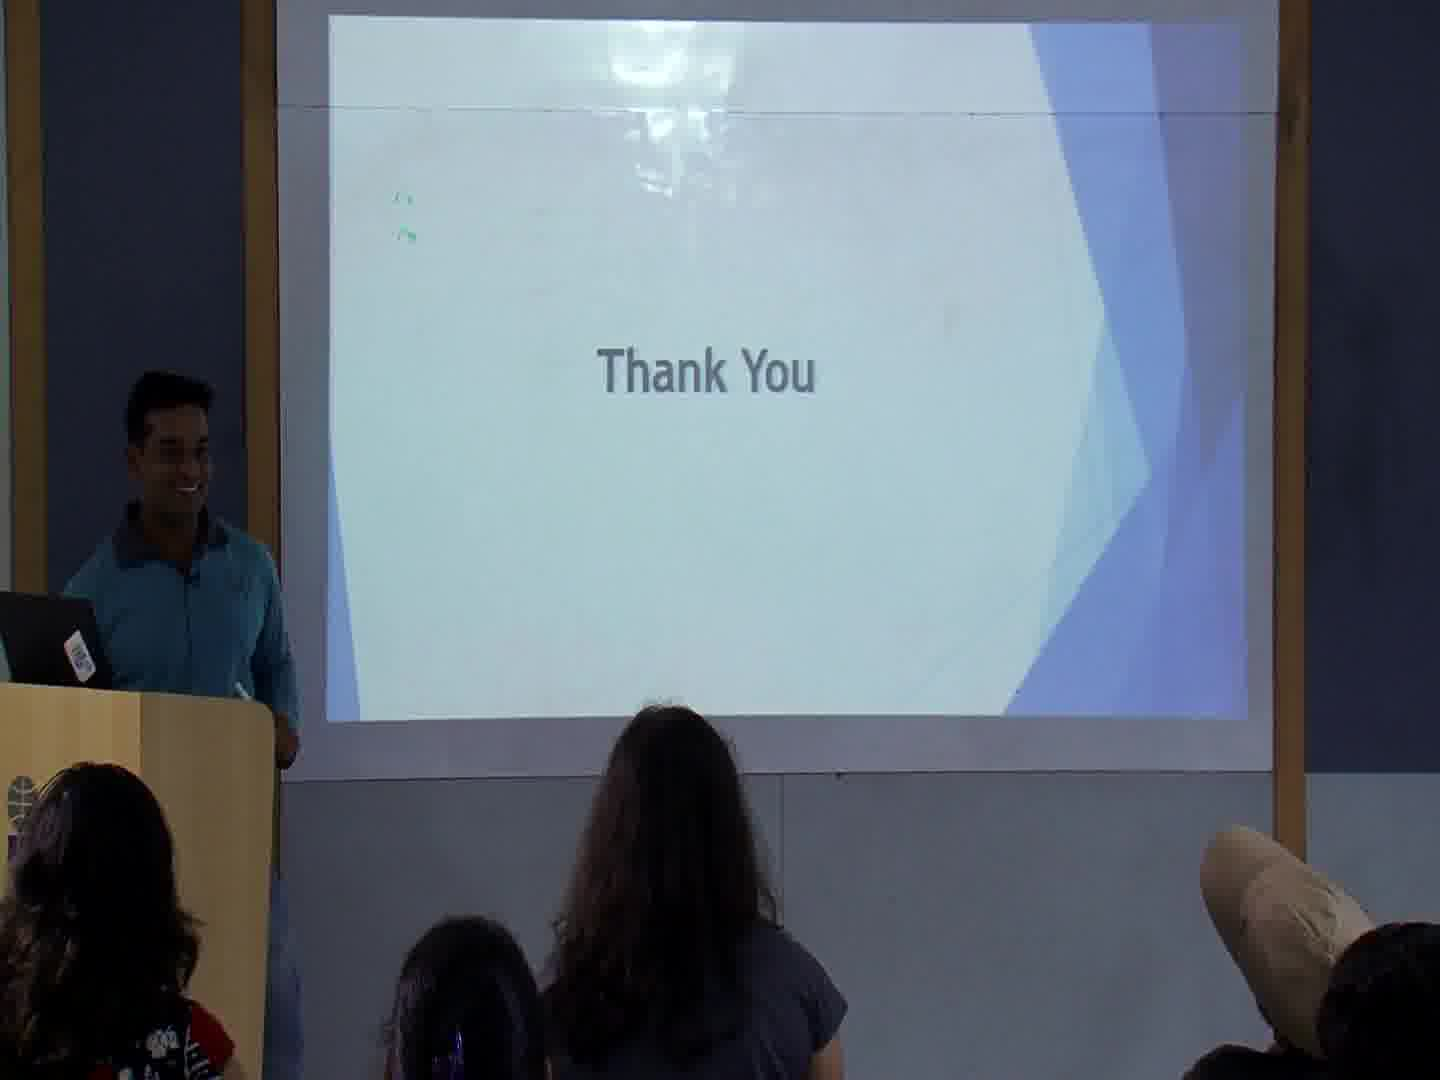slide: (327, 15, 1250, 722)
